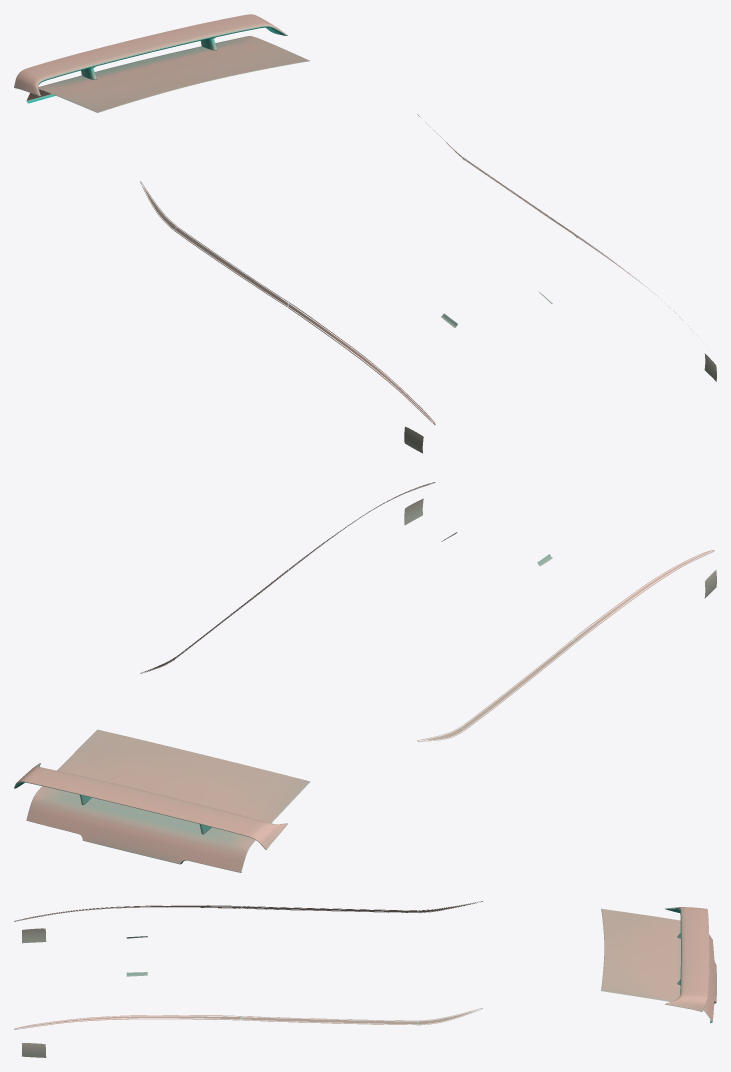
The model's file is Pontiac_GTOTheJudgeClassic_1969_Body2b_lodB.fbx.
3 views of the same model, one above another, from view 1: azimuth 30°, elevation 25°; view 2: azimuth 150°, elevation 25°; view 3: azimuth 270°, elevation 25° (orthographic). The views are drawn at different scales.
Visible parts, largest first — view 1: Body2b_Paint_Geo_lodB; view 2: Body2b_Paint_Geo_lodB; view 3: Body2b_Paint_Geo_lodB.
Part boxes in pixels (<box>): Body2b_Paint_Geo_lodB: <box>14,14,716,453</box>; Body2b_Paint_Geo_lodB: <box>14,482,716,872</box>; Body2b_Paint_Geo_lodB: <box>14,901,716,1057</box>.
Bounding box in the file's own units: 1.88 × 0.3945 × 4.8.
